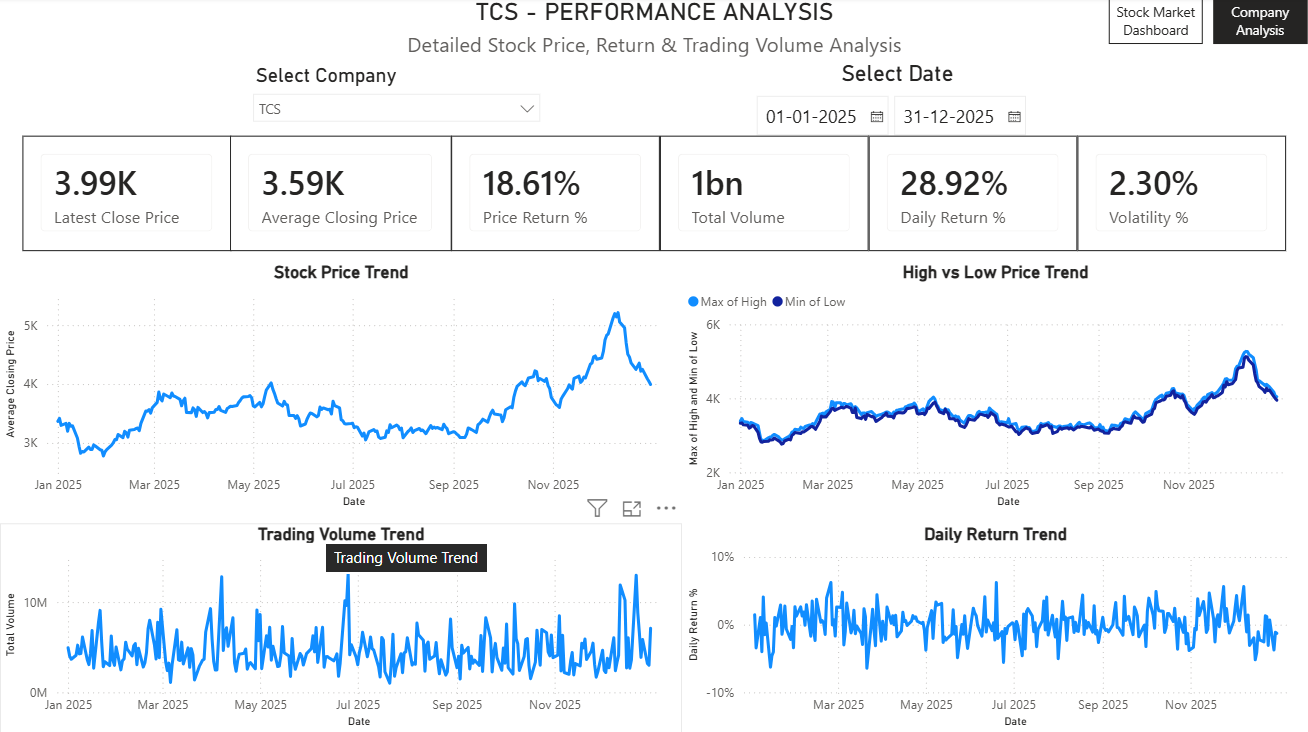

This screenshot's page, from the dashboard's own definition file:
{"tool":"powerbi","page":{"name":"Company Analysis","canvas":[1280,720],"ordinal":1},"visuals":[{"type":"textbox","box":[0,0,1280.3,61.1],"z":0},{"type":"slicer","title":"Select Date","fields":{"Values":["StockData.Date"]},"box":[727.6,62.4,300.8,74.6],"z":1000},{"type":"cardVisual","fields":{"Data":["StockData.Latest Close Price"]},"box":[22,135.7,204.2,112.5],"z":2000},{"type":"lineChart","title":"Stock Price Trend","fields":{"Y":["StockData.Average Closing Price"],"Category":["StockData.Date"]},"box":[0,259.2,667.7,245.8],"z":3000},{"type":"slicer","title":"Select Date","fields":{"Values":["StockData.Company"]},"box":[237.2,61.1,300.8,74.6],"z":4000},{"type":"lineChart","title":"High vs Low Price Trend","fields":{"Y":["Max(StockData.High)","Min(StockData.Low)"],"Category":["StockData.Date"]},"box":[667.7,259.2,612.6,245.8],"z":5000},{"type":"lineChart","title":"Trading Volume Trend","fields":{"Y":["StockData.Total Volume"],"Category":["StockData.Date"]},"box":[0,514.8,667.7,205.4],"z":6000},{"type":"lineChart","title":"Daily Return Trend","fields":{"Y":["StockData.Daily Return %"],"Category":["StockData.Date"]},"box":[667.7,514.8,612.6,205.4],"z":7000},{"type":"cardVisual","fields":{"Data":["StockData.Average Closing Price"]},"box":[225,135.7,216.4,112.5],"z":8000},{"type":"cardVisual","fields":{"Data":["StockData.Price Return %"]},"box":[441.4,135.7,204.2,112.5],"z":9000},{"type":"cardVisual","fields":{"Data":["StockData.Total Volume"]},"box":[645.7,135.7,204.2,112.5],"z":10000},{"type":"cardVisual","fields":{"Data":["StockData.Daily Return %"]},"box":[849.9,135.7,204.2,112.5],"z":11000},{"type":"cardVisual","fields":{"Data":["StockData.Volatility %"]},"box":[1054.1,135.7,204.2,112.5],"z":12000},{"type":"pageNavigator","box":[1084.7,0,195.7,46.5],"z":13000}]}

Visuals, with their boxes in screenshot pixels (x1, y1, x2, y2), scaled from the page's 1280x720 canvas onto the 1308x732 screenshot:
textbox: region(0, 0, 1307, 62)
"Select Date" slicer: region(744, 63, 1051, 139)
cardVisual - StockData.Latest Close Price: region(22, 138, 231, 252)
"Stock Price Trend" lineChart: region(0, 264, 682, 513)
"Select Date" slicer: region(242, 62, 550, 138)
"High vs Low Price Trend" lineChart: region(682, 264, 1307, 513)
"Trading Volume Trend" lineChart: region(0, 523, 682, 731)
"Daily Return Trend" lineChart: region(682, 523, 1307, 731)
cardVisual - StockData.Average Closing Price: region(230, 138, 451, 252)
cardVisual - StockData.Price Return %: region(451, 138, 660, 252)
cardVisual - StockData.Total Volume: region(660, 138, 868, 252)
cardVisual - StockData.Daily Return %: region(868, 138, 1077, 252)
cardVisual - StockData.Volatility %: region(1077, 138, 1286, 252)
pageNavigator: region(1108, 0, 1307, 47)
